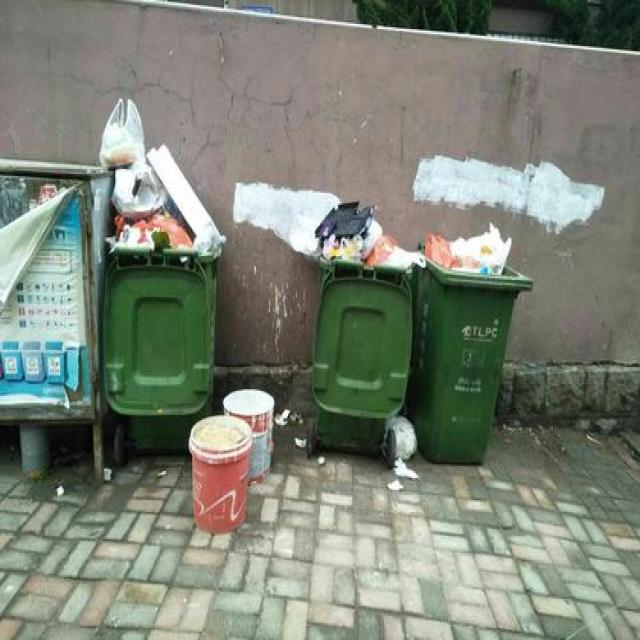garbage: (273, 406, 325, 464), (382, 413, 418, 490)
overflow: (97, 96, 224, 447), (307, 200, 424, 452), (413, 222, 532, 464)
